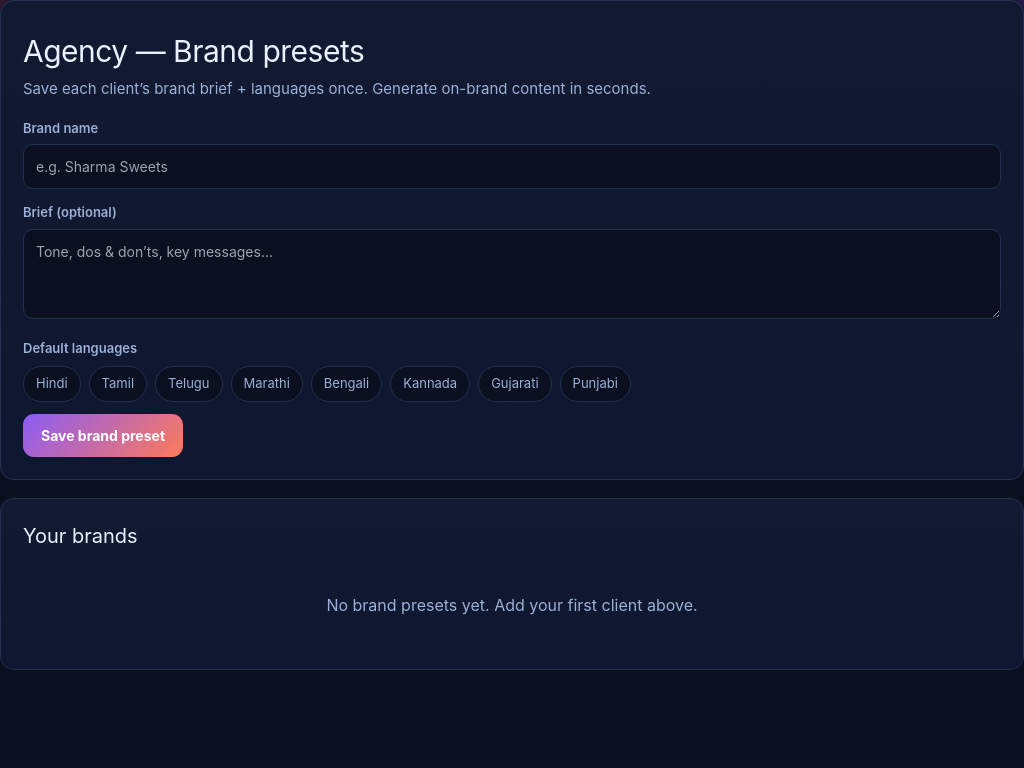
<AgencyClient> › creates a brand preset and lists it
The width and height of the screenshot is (1024, 768).
Type "Sharma Sweets" into the field with placeholder "e.g. Sharma Sweets".
click(512, 166); type("Sharma Sweets")  # box 23,144 -> 1001,189
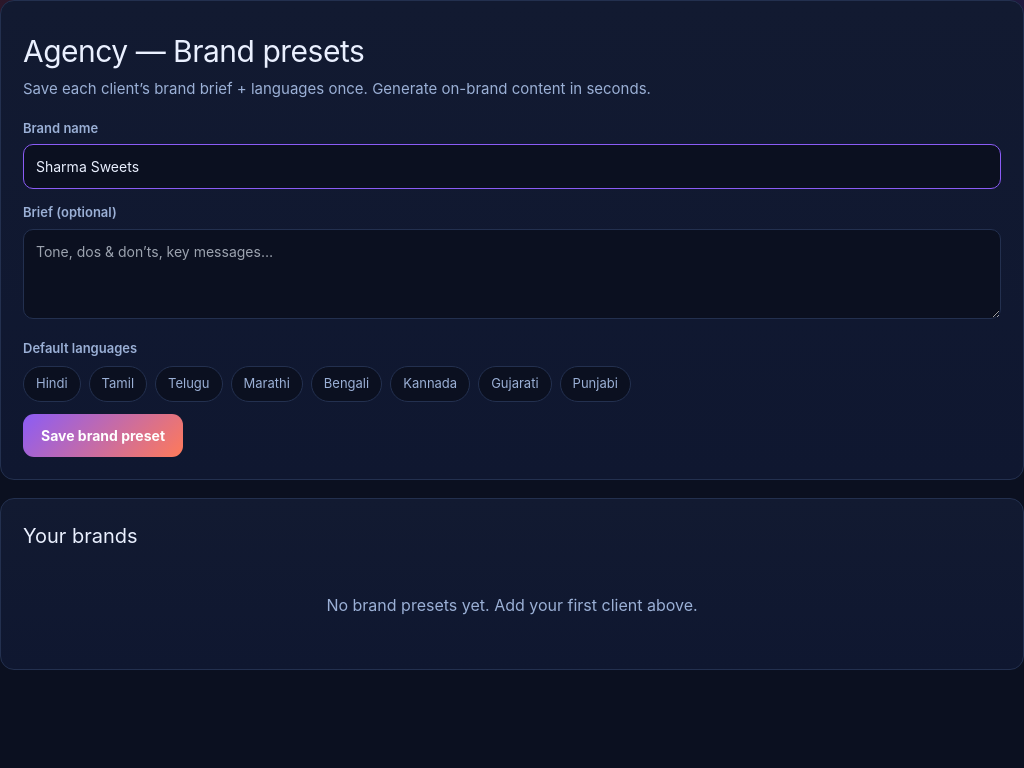
Click the button "Save brand preset".
click(103, 435)  # box 23,414 -> 183,456
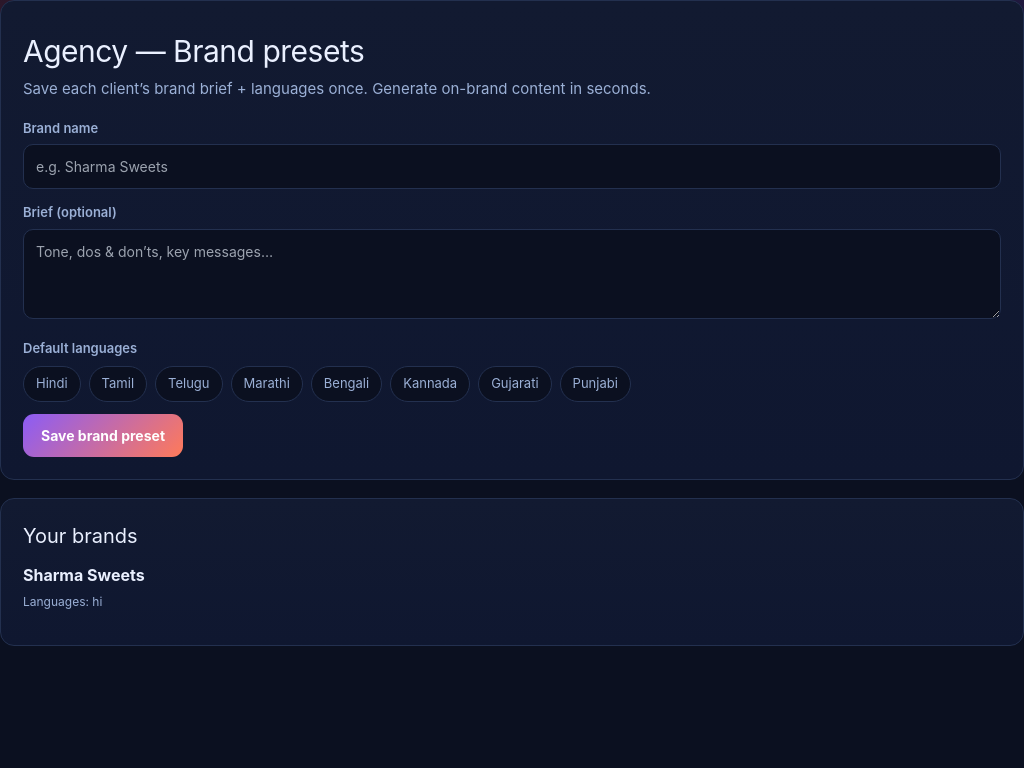
Expected: the text "Sharma Sweets" is shown, 23,564 -> 145,584
